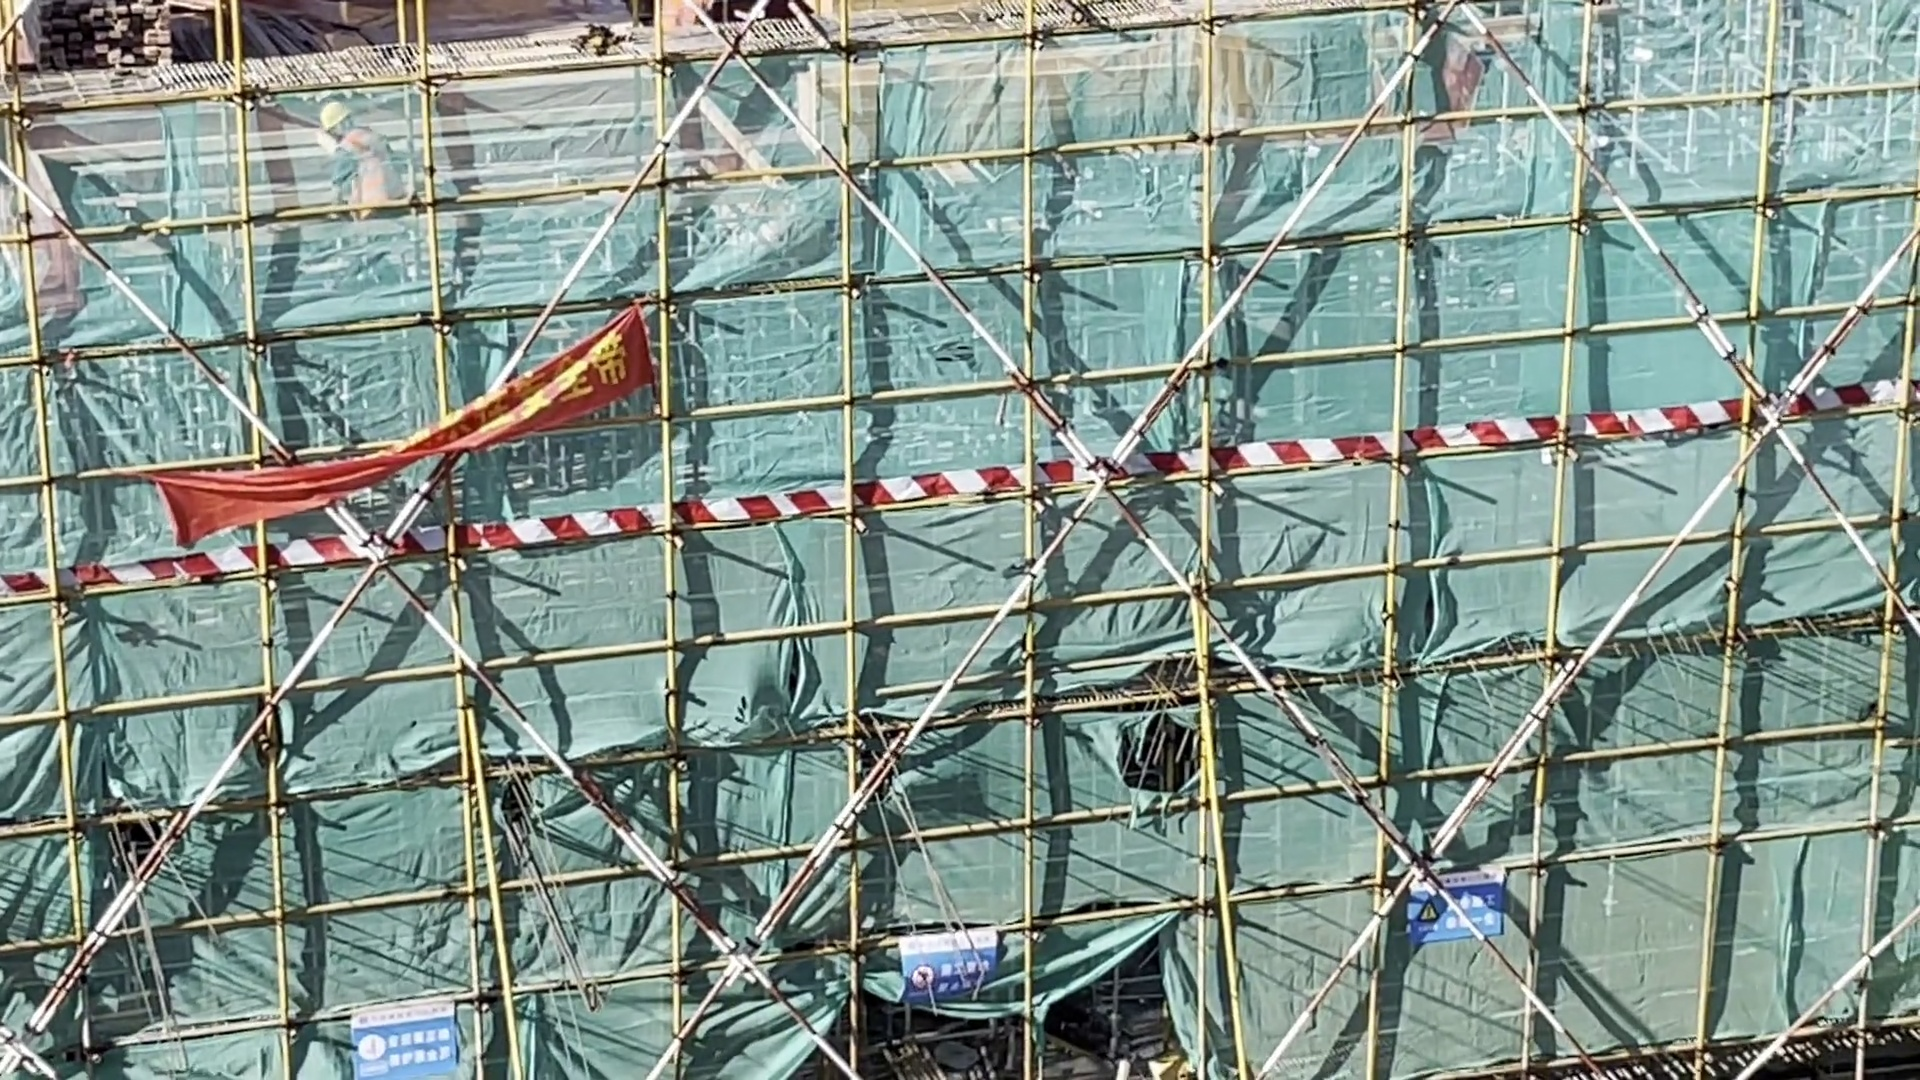helmet: (327, 107, 353, 132)
person: (307, 109, 405, 261)
slogan: (178, 318, 648, 549), (910, 939, 1009, 1000), (363, 1017, 456, 1077), (1406, 880, 1506, 932)
vest: (328, 136, 399, 215), (658, 1, 708, 28)
wood: (808, 56, 1209, 136), (35, 1, 183, 71)
